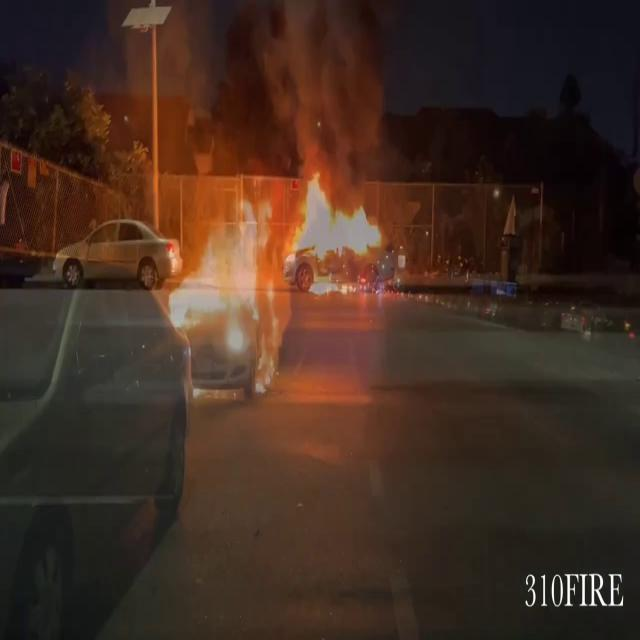Fire: (166, 176, 281, 354), (284, 167, 396, 284)
Smoke: (159, 0, 406, 173)
